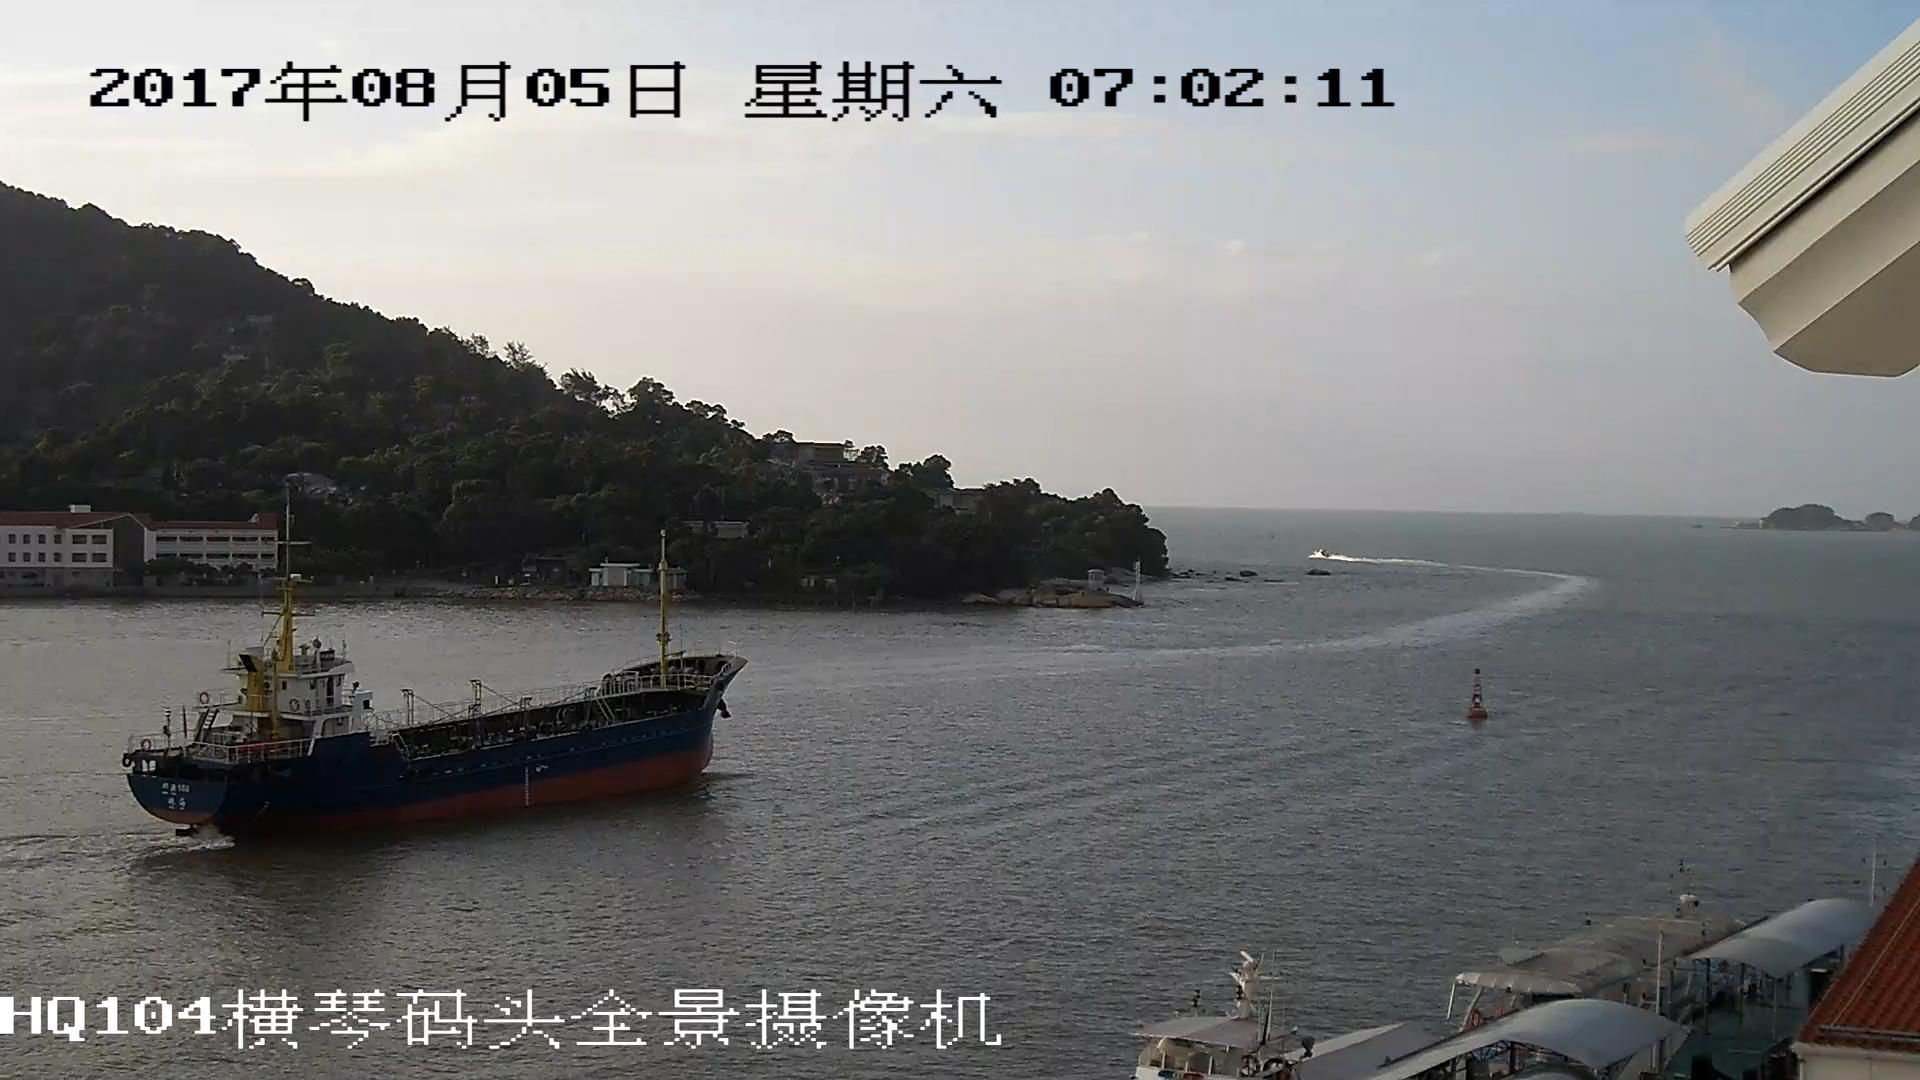Ship: (121, 527, 748, 843)
